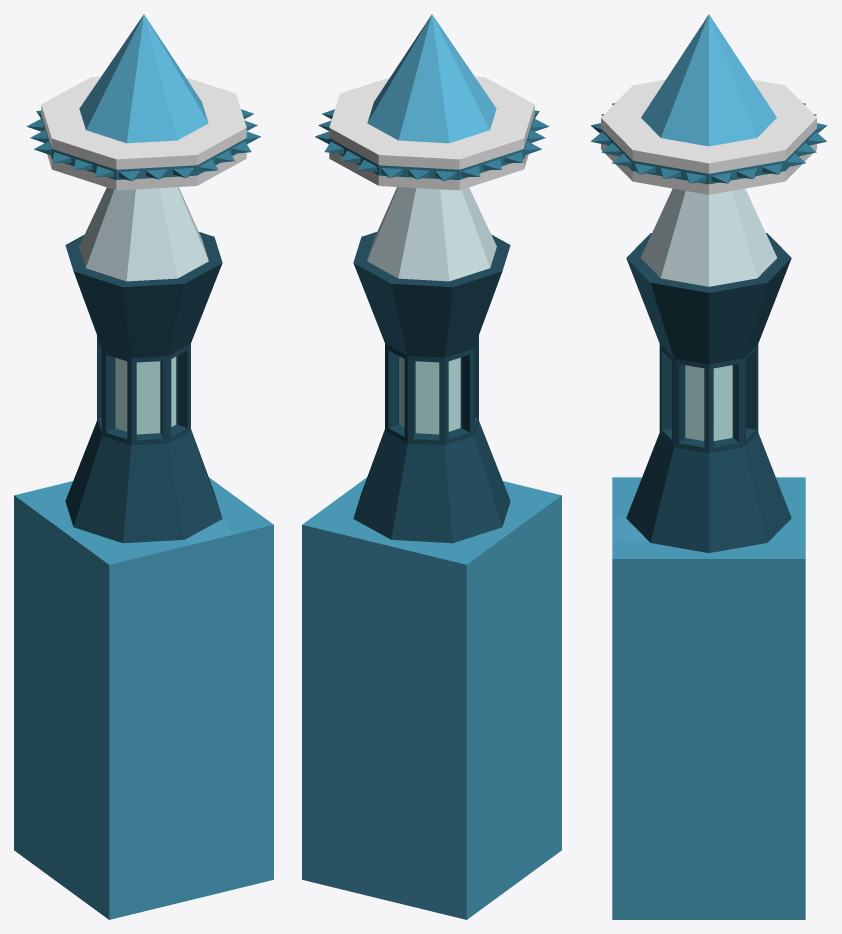
The model's file is Building4.fbx.
3 renders of one model, left to right at view 1: azimuth 30°, elevation 25°; view 2: azimuth 150°, elevation 25°; view 3: azimuth 270°, elevation 25°, orthographic.
Parts seen in each view (by area): view 1: Bina4; view 2: Bina4; view 3: Bina4.
Boxes of the visible parts, x1=… form: Bina4: x1=14, y1=14, x2=273, y2=919; Bina4: x1=302, y1=14, x2=561, y2=919; Bina4: x1=591, y1=14, x2=826, y2=919.
Size of the model in its own units: 4809 by 19355 by 4809.
